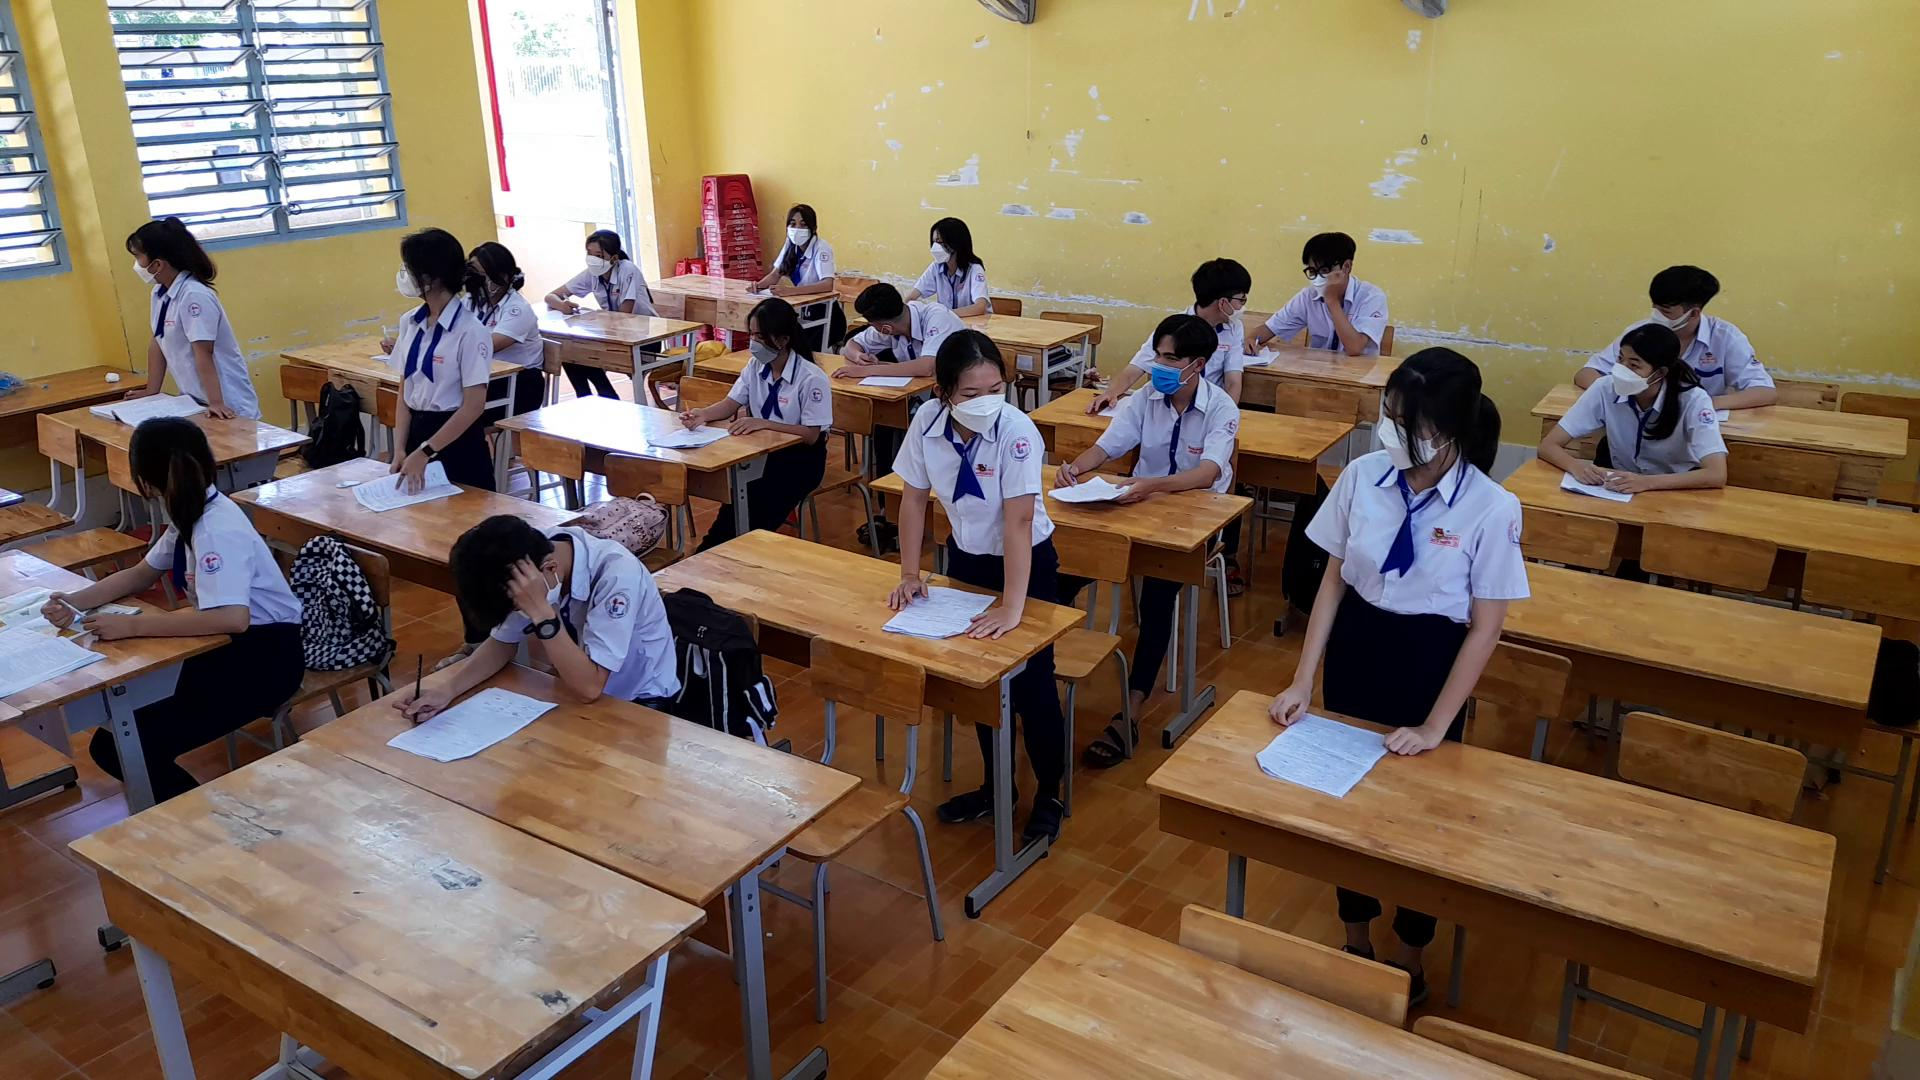Hand Under Table: (608, 258, 642, 320)
Look Around: (105, 406, 222, 517), (1176, 248, 1257, 330)
Normal: (1535, 313, 1733, 504), (1048, 301, 1236, 501), (669, 287, 836, 438), (735, 199, 849, 298), (906, 210, 1004, 314)
Stand Up: (1262, 338, 1531, 753), (876, 316, 1071, 640), (367, 223, 500, 500), (111, 206, 260, 425)
Wave: (498, 554, 646, 705), (1312, 262, 1385, 357)
